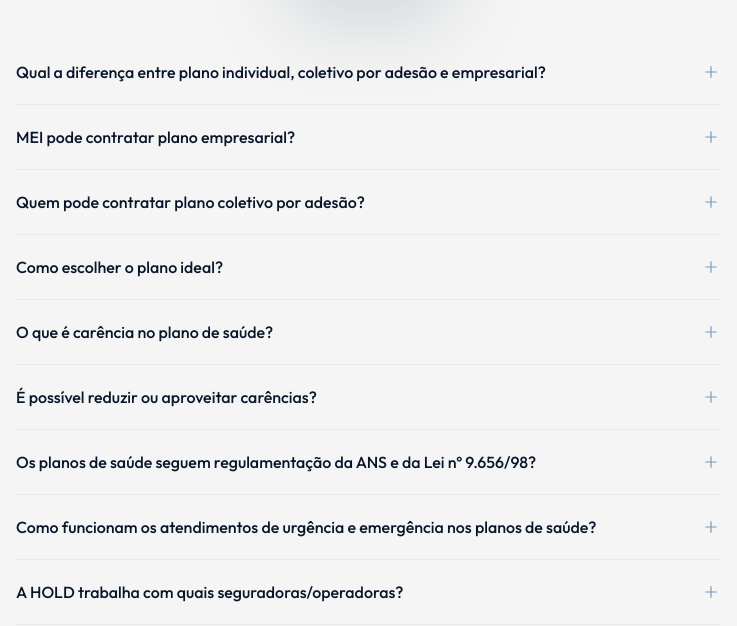
Scenario: SaudeFAQ › renders bullet items inside expanded answer
(page scrolled)
Click the button "O que é carência no plano de saúde?" at (145,332), box [16, 300, 720, 364]
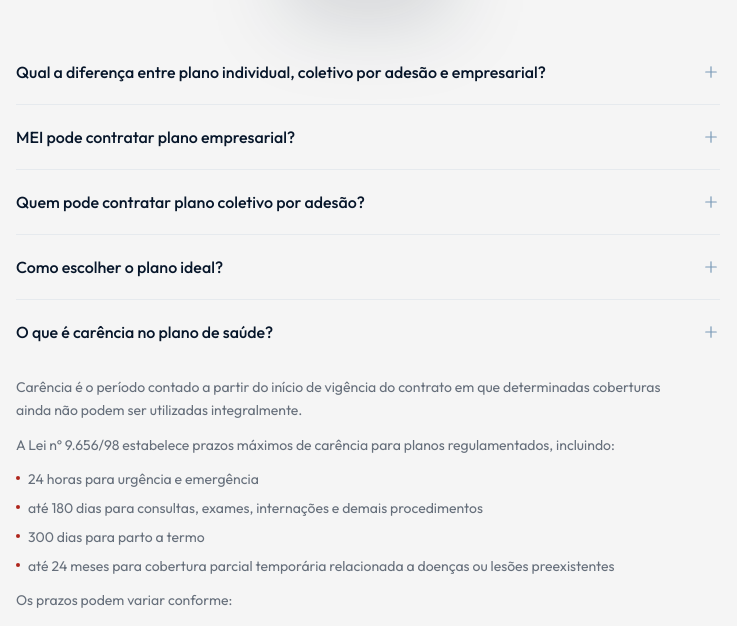
Expected: the text "24 horas para urgência e emergência" is shown, [28, 468, 259, 491]
Expected: the text "300 dias para parto a termo" is shown, [28, 526, 205, 549]
